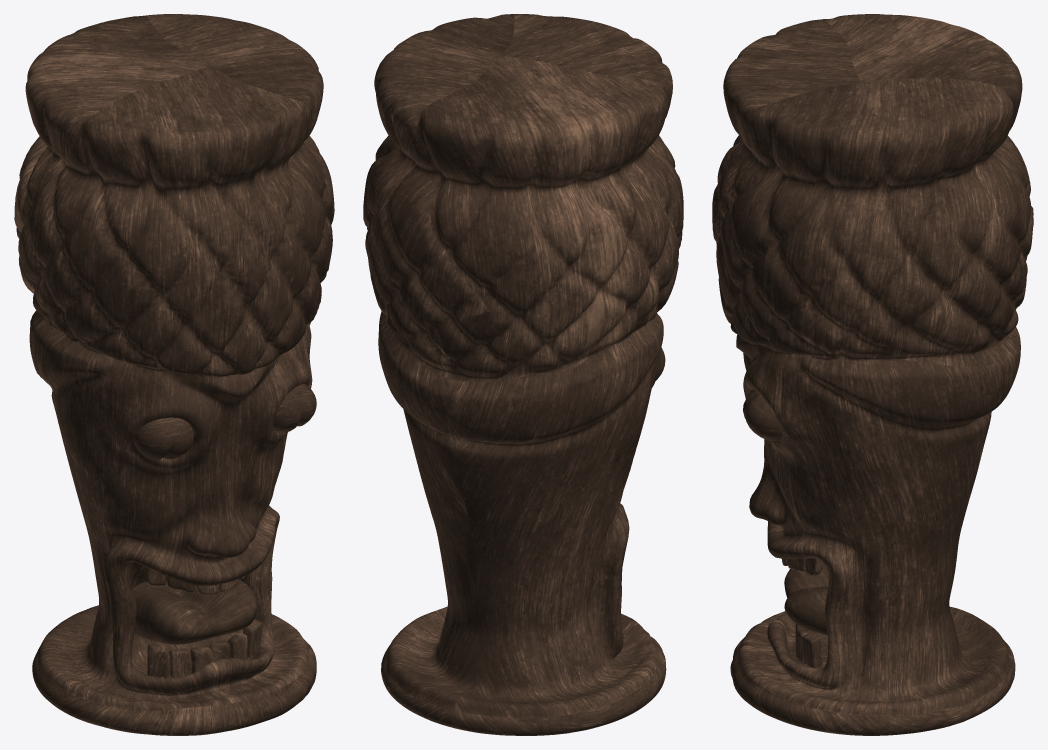
File: sculpture-totem.gltf
The picture shows the model from 3 angles, left to right: view 1: azimuth 30°, elevation 25°; view 2: azimuth 150°, elevation 25°; view 3: azimuth 270°, elevation 25°; orthographic projection.
Visible parts, largest first — view 1: Merged_PM3D_Cube3D17; view 2: Merged_PM3D_Cube3D17; view 3: Merged_PM3D_Cube3D17.
Boxes of the visible parts, left/top/right/bottom form: Merged_PM3D_Cube3D17: left=14, top=14, right=334, bottom=735; Merged_PM3D_Cube3D17: left=363, top=14, right=683, bottom=735; Merged_PM3D_Cube3D17: left=712, top=14, right=1033, bottom=735.
Bounding box in the file's own units: 1.5 × 3.16 × 1.5.
1 material, 1 textured.
